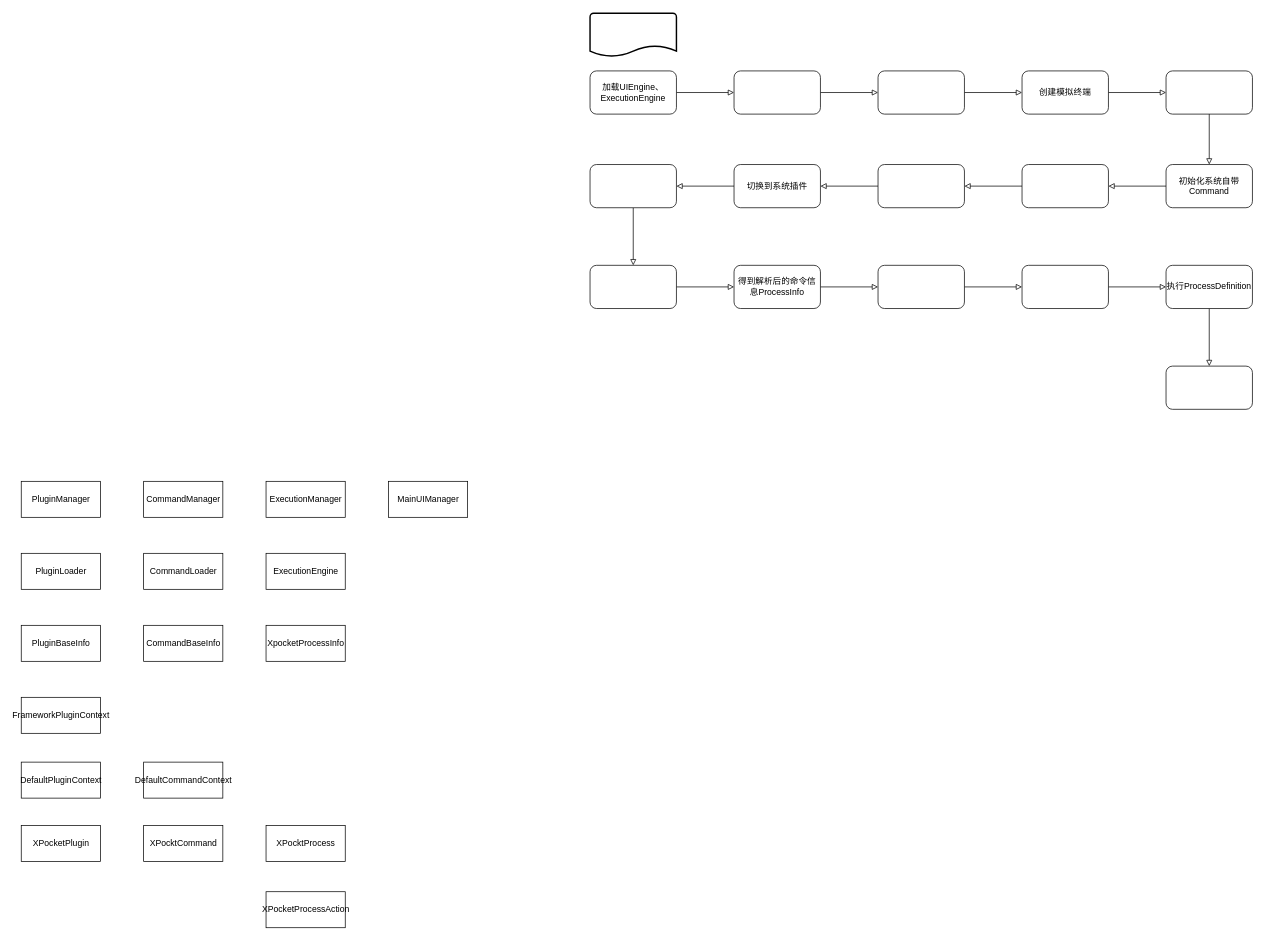
Image size: 1265x940. Some labels were removed from this diagram. The box of each missing label's shape, as (x1, y1, x2, y2) in pixels:
CommandManager注册Command: (877, 164, 964, 208)
ExecutionManager调用ExecutionEngine执行命令: (877, 265, 964, 309)
PluginManager加载默认实现的插件（META-INF/xpocket.def）: (1021, 164, 1108, 208)
XPocketLineReader解析输入命令: (589, 265, 676, 309)
使用XPocketCommand调用新建的XPocketProcess完成命令的执行: (1165, 365, 1252, 409)
初始化xpocket处理进程: (1165, 70, 1252, 114)
加载系统变量: (733, 70, 820, 114)
启动UIEngine: (877, 70, 964, 114)
将命令封装成ProcessDefinition加入到ExecutionPipeLine: (1021, 265, 1108, 309)
等待输入: (589, 164, 676, 208)
通过SPI加载到一个Map中，key为name，value为Class类: (589, 12, 677, 57)
